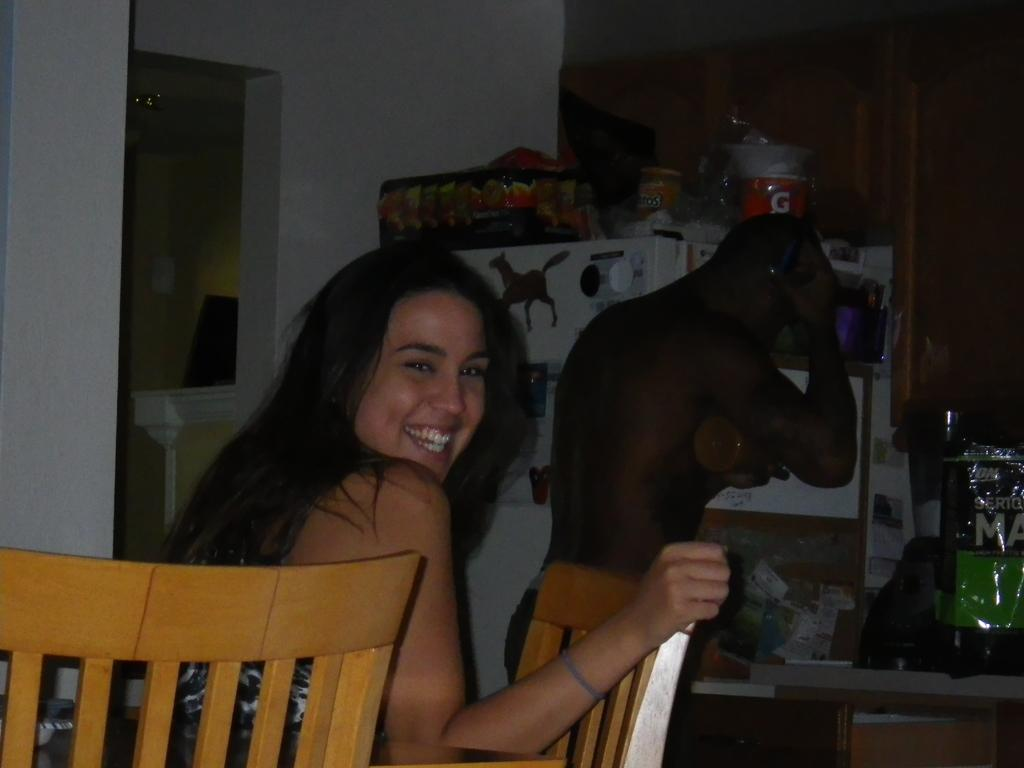Sem Máscara: (350, 288, 492, 481)
